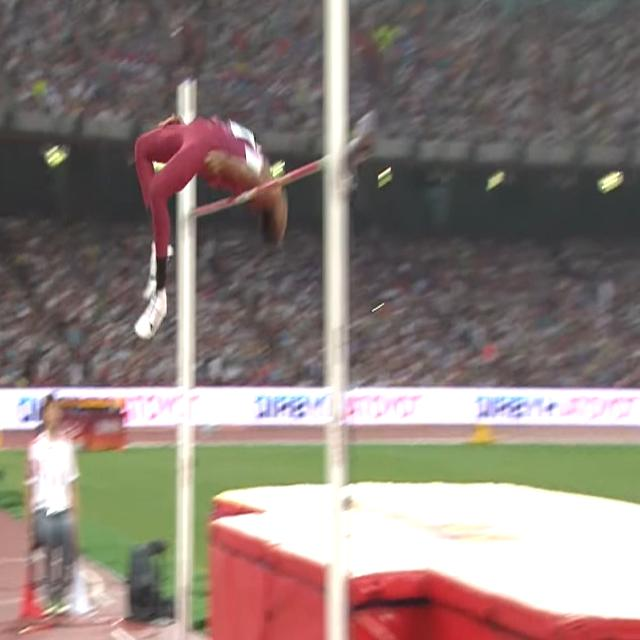jump: (138, 117, 288, 339)
